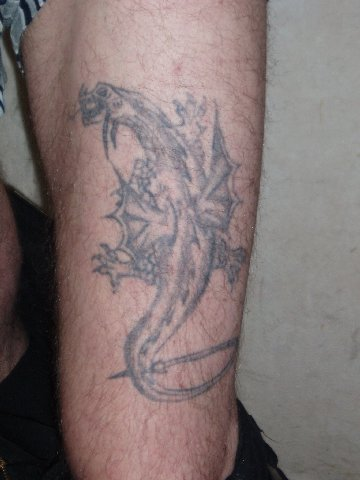tatu6_drakon: (53, 64, 297, 422)
